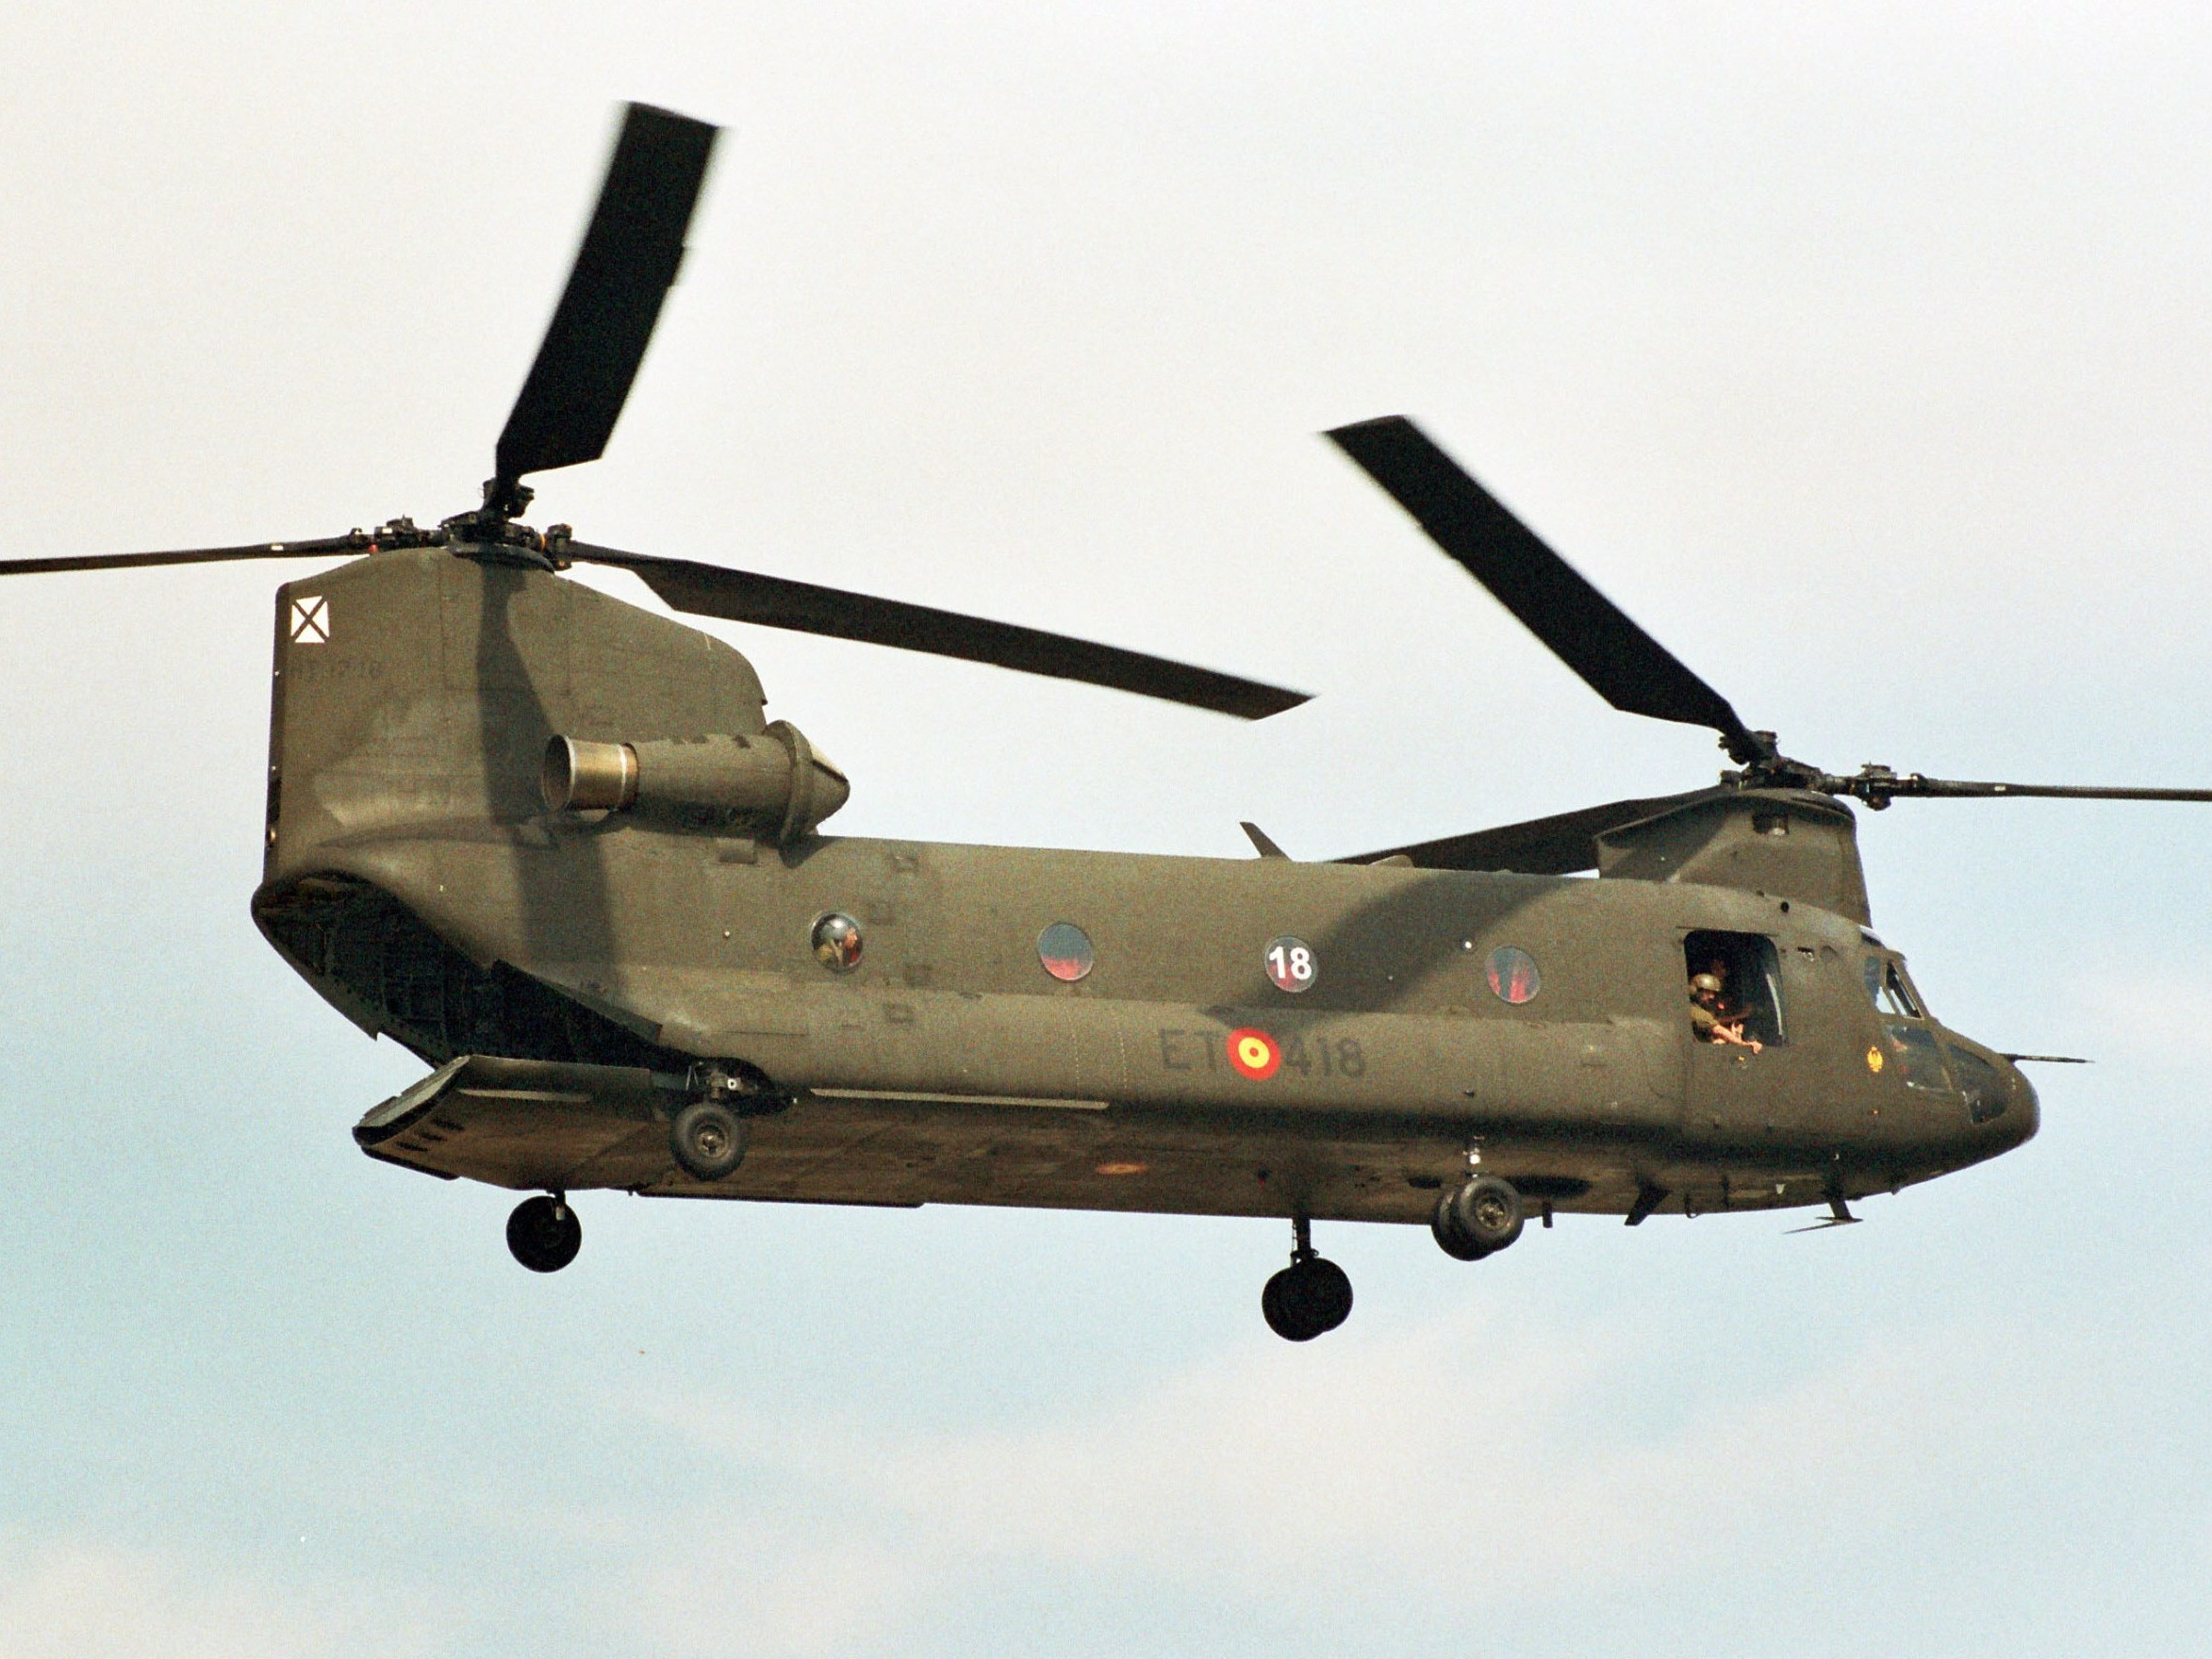chinook: (129, 416, 2081, 1366)
